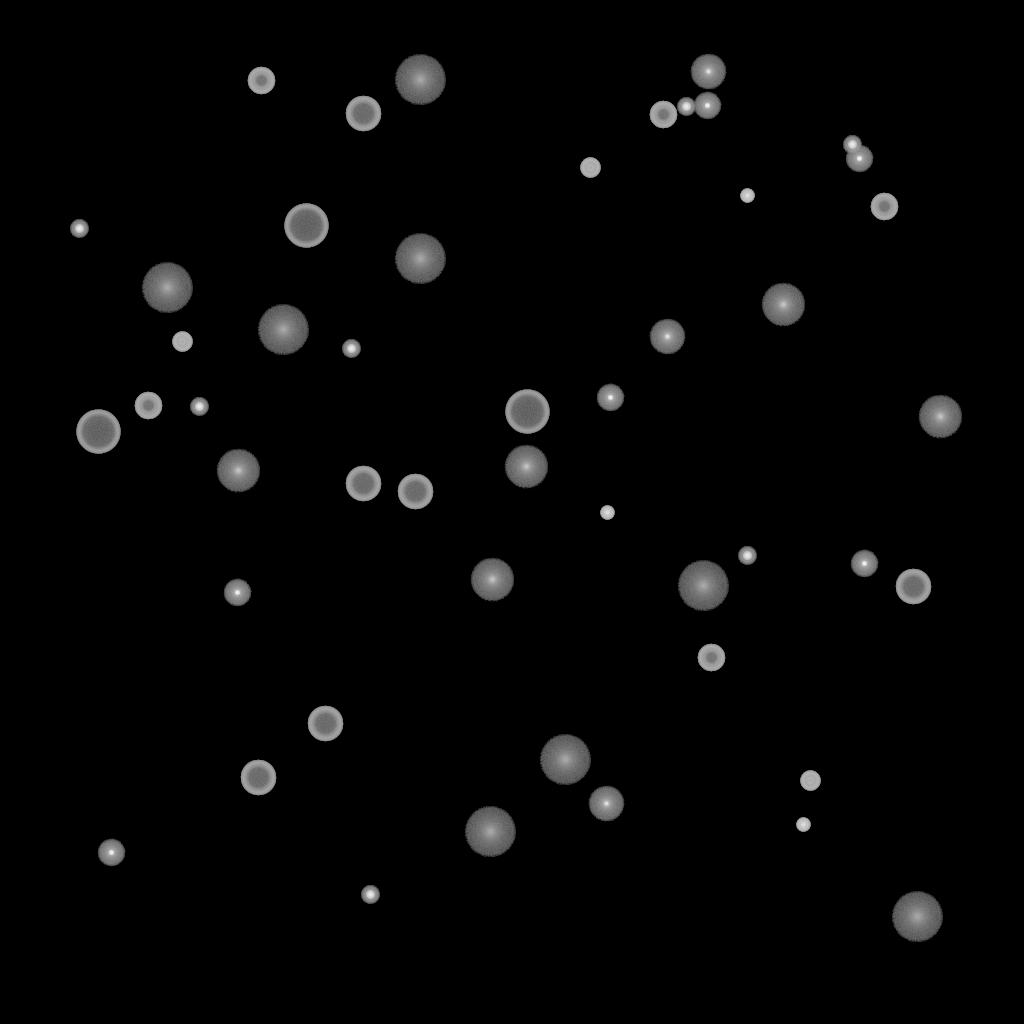depth:-10: (845, 145, 873, 173), (596, 384, 624, 412), (850, 550, 878, 578), (693, 92, 721, 120), (223, 579, 251, 607), (97, 839, 125, 867)
depth:-20: (190, 398, 208, 416), (677, 98, 695, 116), (70, 220, 88, 238), (843, 136, 861, 154), (738, 547, 756, 565), (342, 340, 360, 358), (361, 886, 379, 904)
depth:-30: (600, 506, 614, 520), (796, 818, 810, 832), (740, 189, 754, 203)
depth:-40: (800, 771, 820, 791), (172, 332, 192, 352), (580, 158, 600, 178)
depth:-50: (134, 392, 162, 420), (247, 67, 275, 95), (697, 644, 725, 672), (649, 101, 677, 129), (870, 193, 898, 221)
depth:-60: (397, 474, 433, 510), (345, 96, 381, 132), (895, 569, 931, 605), (345, 466, 381, 502), (307, 706, 343, 742), (240, 760, 276, 796)
depth:-70: (505, 390, 549, 434), (76, 410, 120, 454), (284, 204, 328, 248)
depth:0: (690, 54, 726, 90), (588, 786, 624, 822), (649, 319, 685, 355)
depth:10: (470, 558, 514, 602), (761, 283, 805, 327), (504, 445, 548, 489), (918, 395, 962, 439), (216, 449, 260, 493)
depth:20: (539, 735, 591, 785), (464, 807, 516, 857), (891, 892, 943, 942), (141, 263, 193, 313), (257, 305, 309, 355), (394, 55, 446, 105), (677, 561, 729, 611), (394, 234, 446, 284)
